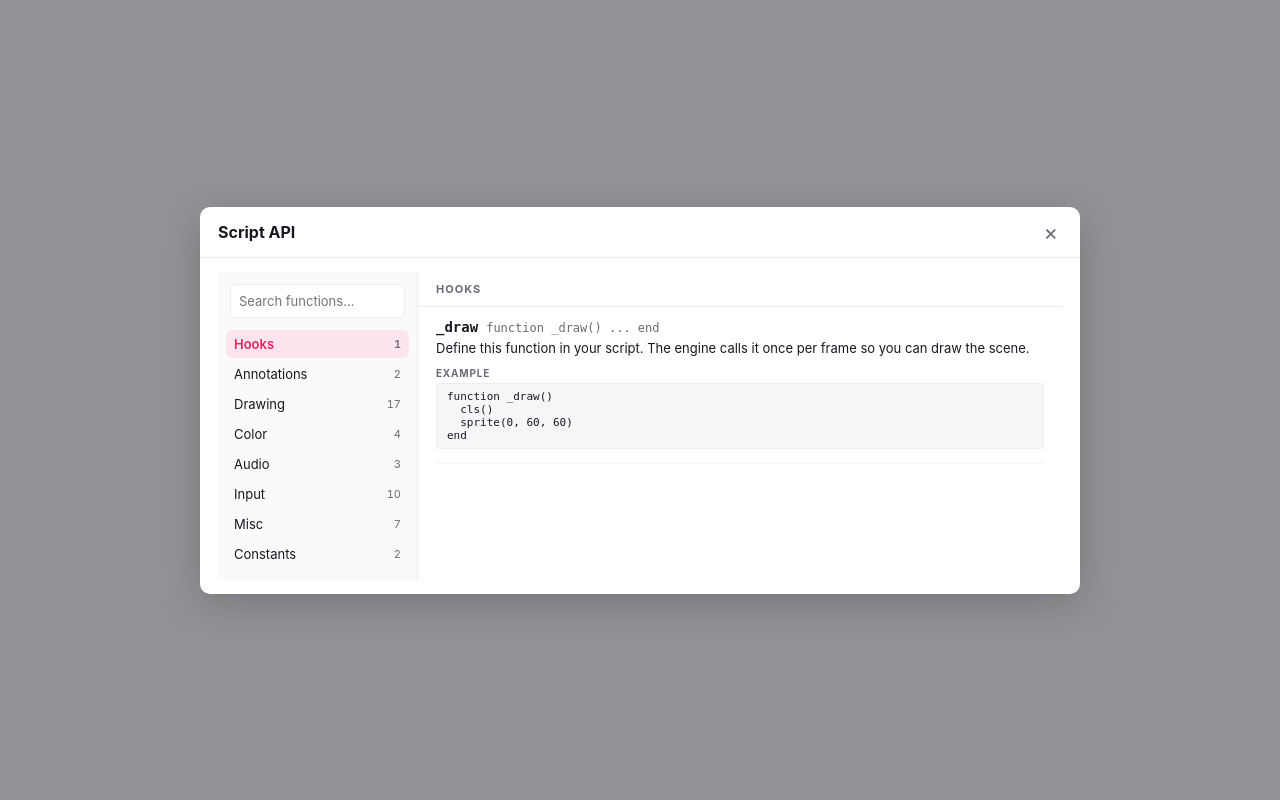
Scenario: ScriptApiModal — entry rendering › renders a tip block when provided
Click the tab "Drawing 17" at [318, 404], box [226,390,409,418]
(page scrolled)
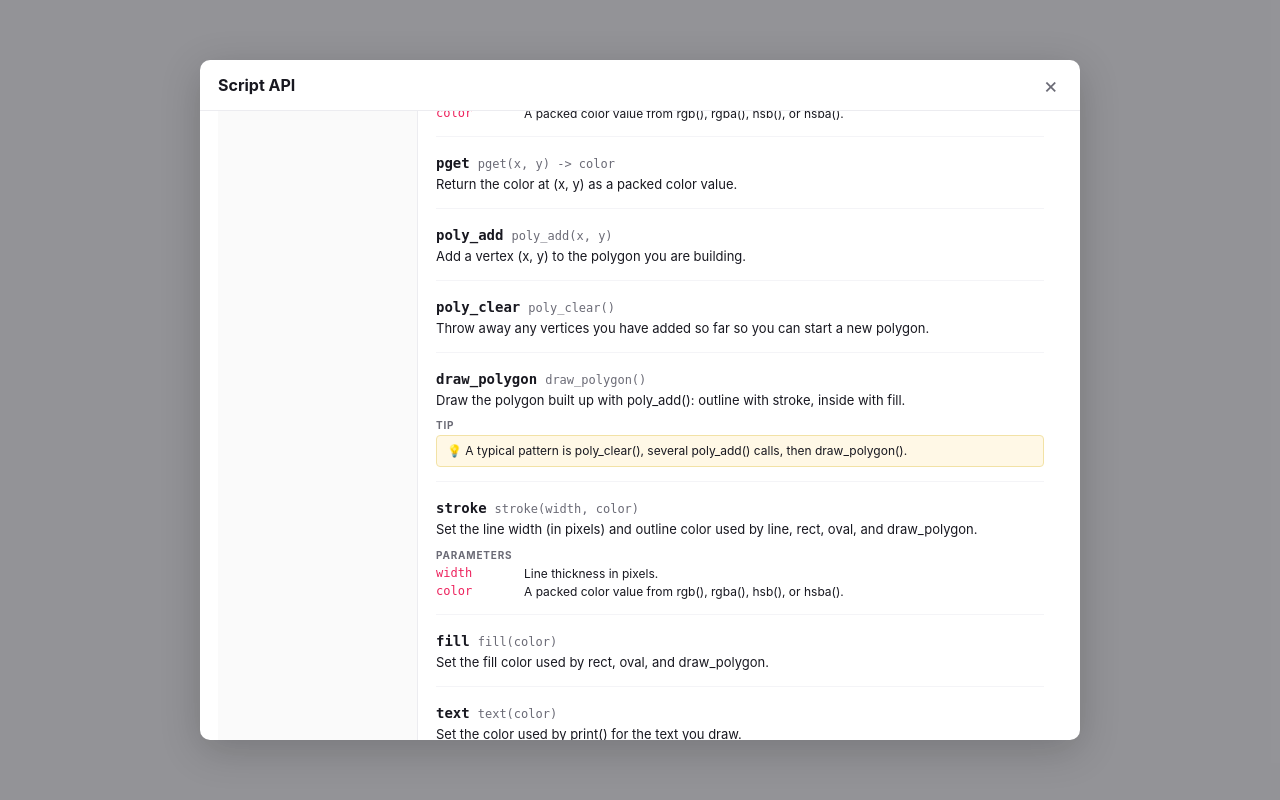
Now the text "Tip" is shown, box [436,420,454,432]
